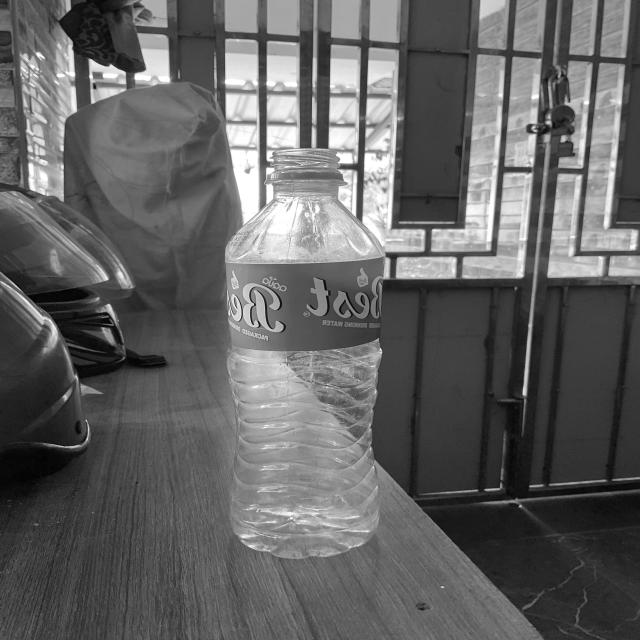open-cap: (268, 144, 344, 181)
